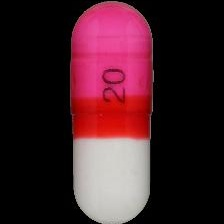49999-003: (0, 0, 224, 224)
